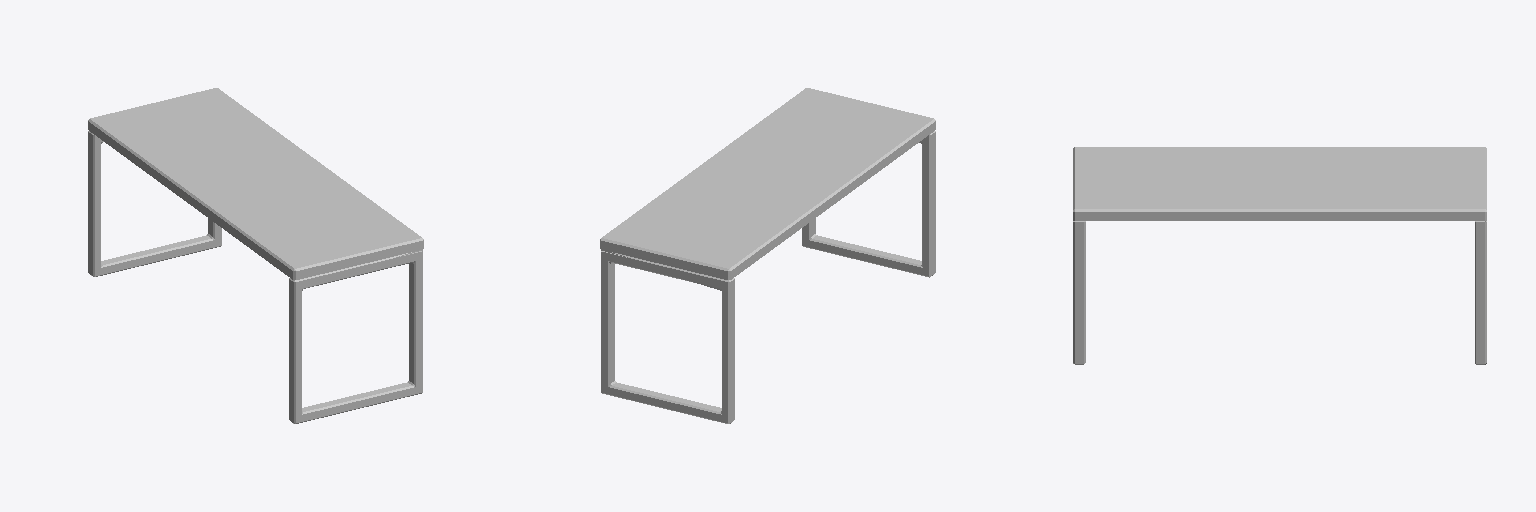
Rendered from 办公桌简易.obj.
3 renders of one model, left to right at view 1: azimuth 30°, elevation 25°; view 2: azimuth 150°, elevation 25°; view 3: azimuth 270°, elevation 25°, orthographic.
Parts seen in each view (by area): view 1: Box1768, Rectangle006, Rectangle007; view 2: Box1768, Rectangle007, Rectangle006; view 3: Box1768, Rectangle006, Rectangle007.
Part boxes in pixels (x1,y1,x2,y2): Box1768: (88, 88, 423, 279); Rectangle006: (289, 250, 422, 423); Rectangle007: (88, 131, 221, 276); Box1768: (600, 88, 935, 279); Rectangle007: (601, 250, 734, 423); Rectangle006: (802, 131, 935, 277); Box1768: (1073, 147, 1486, 220); Rectangle006: (1073, 221, 1085, 364); Rectangle007: (1475, 221, 1486, 364).
Bounding box in the file's own units: 75.5 × 85.63 × 207.